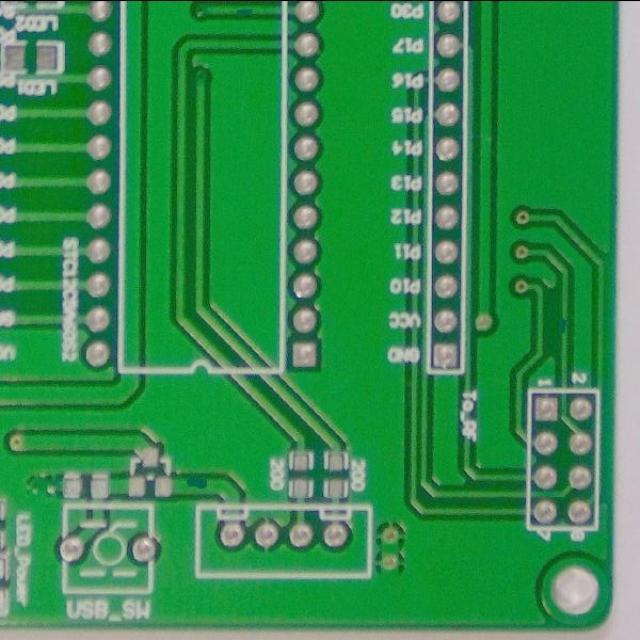MouseBite: (179, 474, 217, 492), (231, 2, 258, 17), (559, 314, 572, 338)
